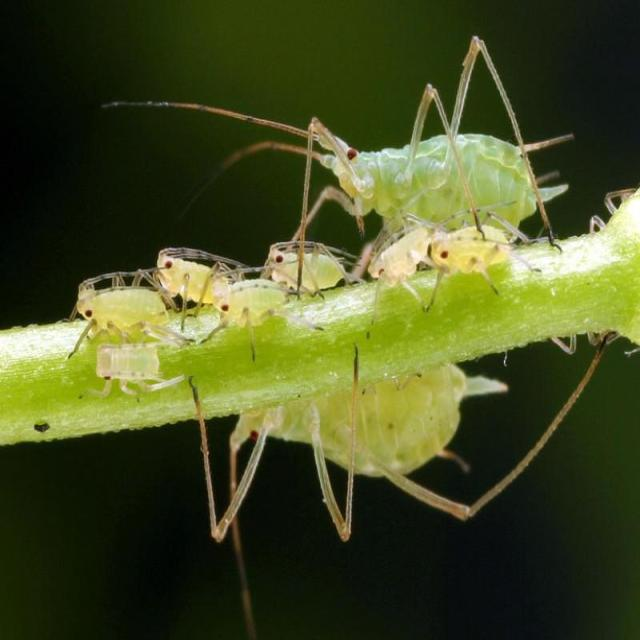Aphids: (104, 71, 607, 261), (427, 206, 543, 293), (51, 266, 170, 340), (205, 265, 302, 336), (258, 232, 352, 300), (147, 239, 238, 309)
